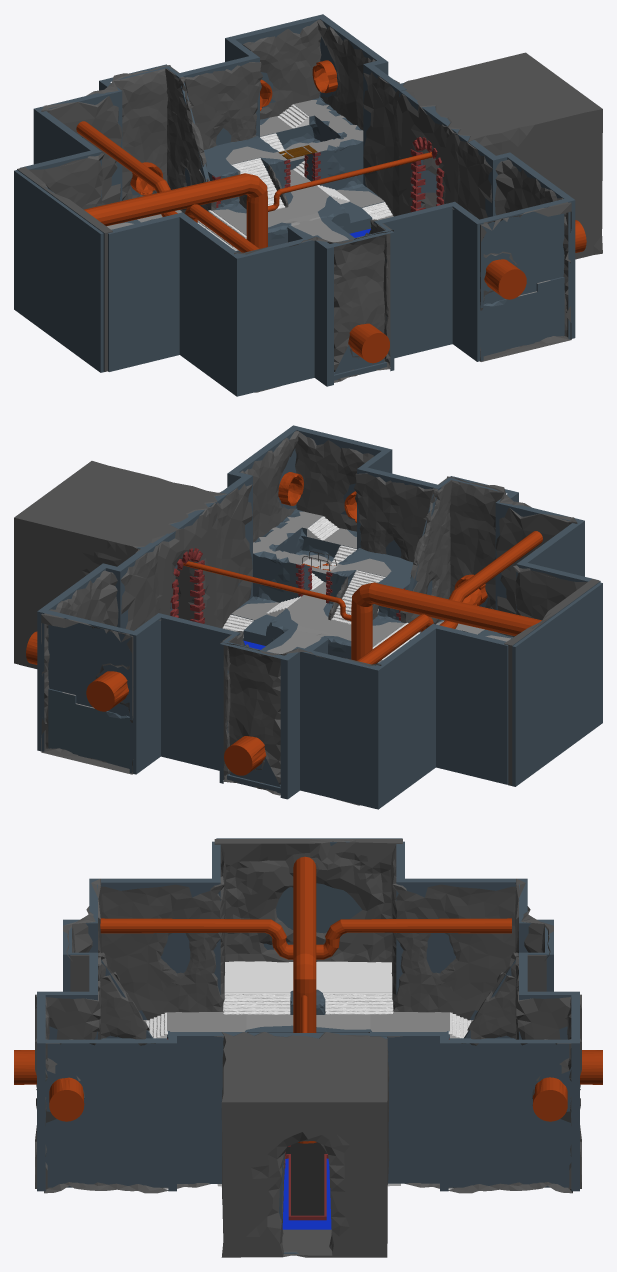
File: Level_2.fbx
The picture shows the model from 3 angles, top to bottom: view 1: azimuth 30°, elevation 25°; view 2: azimuth 150°, elevation 25°; view 3: azimuth 270°, elevation 25°; orthographic projection. The views are drawn at different scales.
Visible parts, largest first — view 1: Cube.041, Cube.018, Cube.056, Cube.007, Cube, Cube.009, Cube.010, Cube.046, Cylinder, Cube.012, Cube.040, Cube.045 (+12 smaller); view 2: Cube, Cube.018, Cube.056, Cube.040, Cube.041, Cube.046, Cube.045, Cube.009, Cylinder, Cube.043, Cube.007, Cube.010 (+12 smaller); view 3: Cube.018, Cube, Cube.041, Cube.056, Cube.008, Cube.047, Cylinder.007, Cube.052, Cylinder, Cube.042, Cube.013, Plane (+19 smaller).
Part boxes in pixels (<box>): Cube.041: <box>108,133,575,396</box>; Cube.018: <box>395,52,602,259</box>; Cube.056: <box>14,167,112,372</box>; Cube.007: <box>107,97,393,252</box>; Cube: <box>20,14,406,205</box>; Cube.009: <box>41,65,170,205</box>; Cube.010: <box>317,19,399,216</box>; Cube.046: <box>234,230,393,392</box>; Cylinder: <box>84,173,267,248</box>; Cube.012: <box>184,44,262,149</box>; Cube.040: <box>334,277,564,379</box>; Cube.045: <box>454,134,567,336</box>; Cube: <box>37,542,508,809</box>; Cube.018: <box>14,461,227,668</box>; Cube.056: <box>504,579,602,786</box>; Cube.040: <box>229,508,513,663</box>; Cube.041: <box>215,425,598,611</box>; Cube.046: <box>447,476,577,637</box>; Cube.045: <box>216,430,299,628</box>; Cube.009: <box>220,641,381,805</box>; Cylinder: <box>351,582,541,660</box>; Cube.043: <box>353,456,433,562</box>; Cube.007: <box>48,688,280,792</box>; Cube.010: <box>45,545,159,748</box>; Cube.018: <box>221,1032,389,1257</box>; Cube: <box>370,841,579,1191</box>; Cube.041: <box>37,841,246,1191</box>; Cube.056: <box>214,838,402,962</box>; Cube.008: <box>390,845,518,1020</box>; Cube.047: <box>98,845,226,1020</box>; Cylinder.007: <box>100,918,511,1032</box>; Cube.052: <box>224,961,392,992</box>; Cylinder: <box>293,856,316,1032</box>; Cube.042: <box>70,952,149,1039</box>; Cube.013: <box>467,952,546,1039</box>; Plane: <box>285,1142,327,1215</box>.
Bounding box in the file's own units: 3581 × 1035 × 3364.
